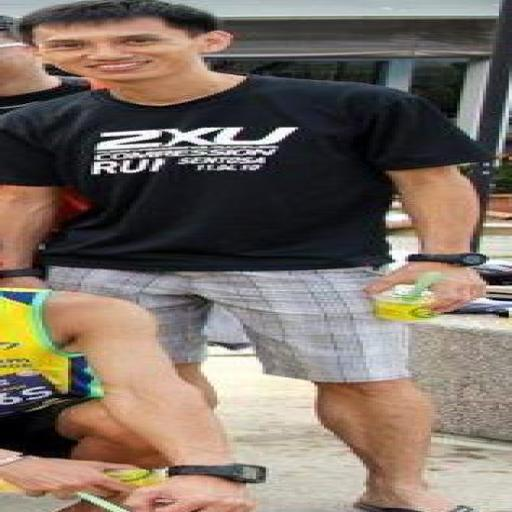person: (0, 0, 489, 511), (0, 289, 255, 511), (0, 16, 90, 114)
